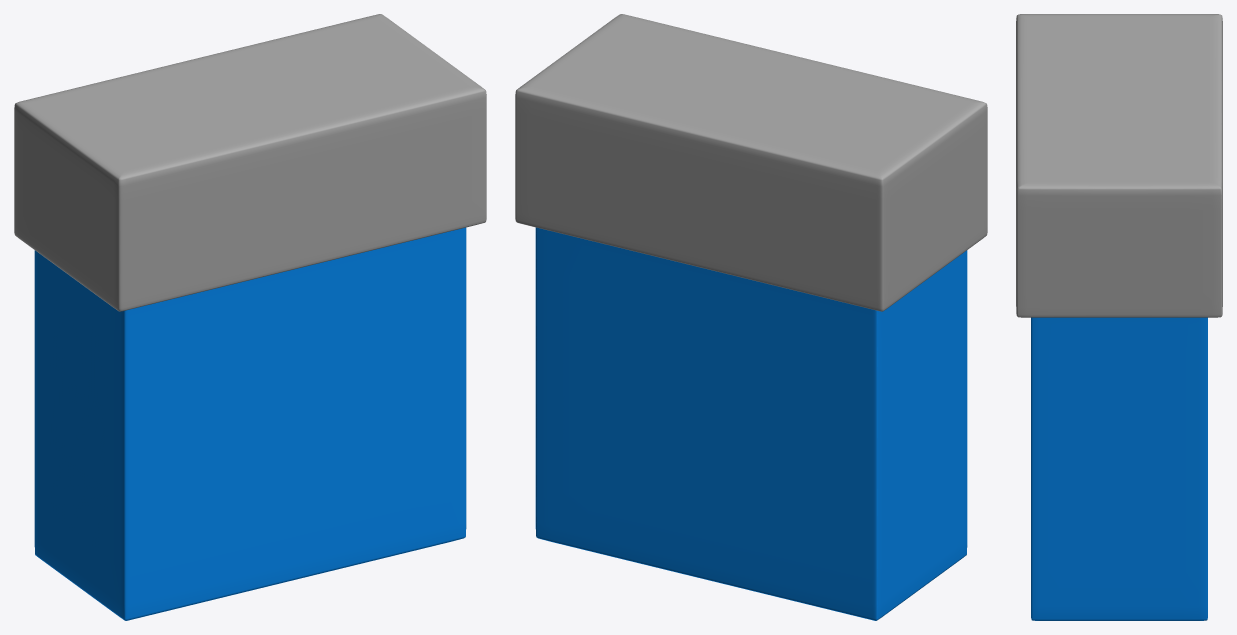
File: Food.fbx
3 views of the same model, side by side, from view 1: azimuth 30°, elevation 25°; view 2: azimuth 150°, elevation 25°; view 3: azimuth 270°, elevation 25° (orthographic). The views are drawn at different scales.
Visible parts, largest first — view 1: pCube9; view 2: pCube9; view 3: pCube9.
Boxes of the visible parts, x1=… form: pCube9: x1=14, y1=14, x2=486, y2=620; pCube9: x1=515, y1=14, x2=987, y2=620; pCube9: x1=1016, y1=14, x2=1222, y2=620.
Size of the model in its own units: 2.81 by 3.29 by 1.4.
